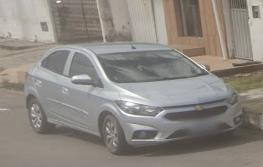car: (24, 44, 242, 155)
